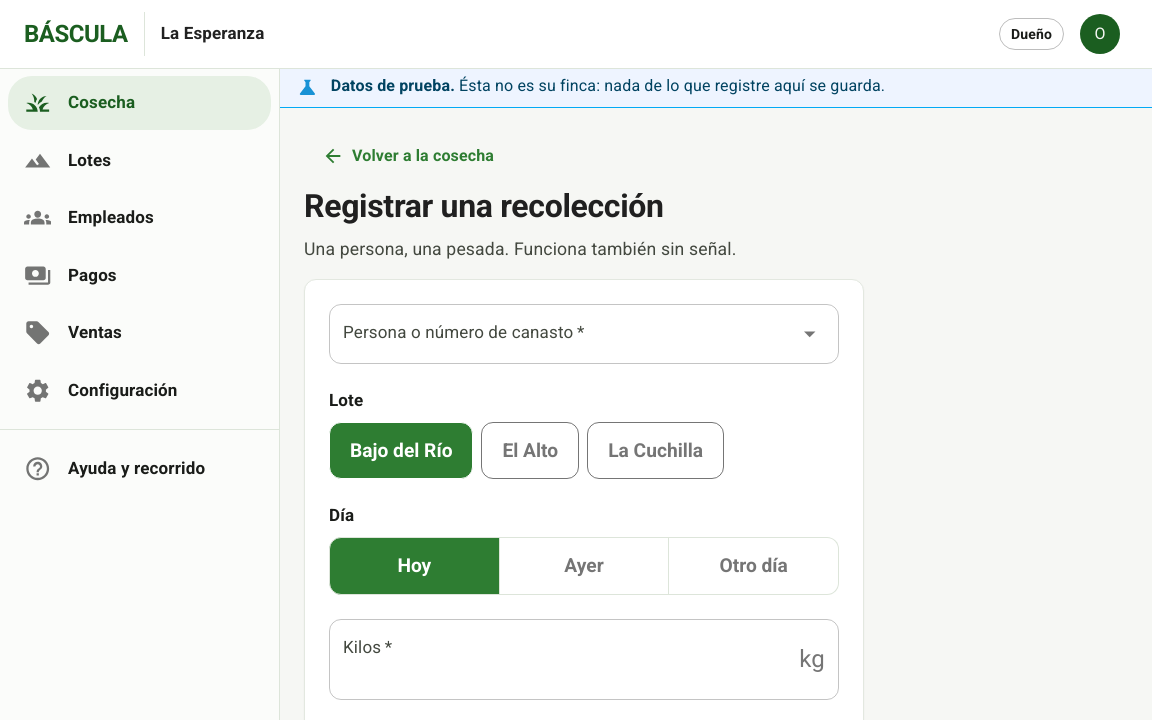
Test case: the weighing form › remembers the lote weighed last on this phone
The image size is (1152, 720).
Step 1. Click the dropdown labelled "Persona o número de canasto *" → click(569, 334), box [338,313,800,355]
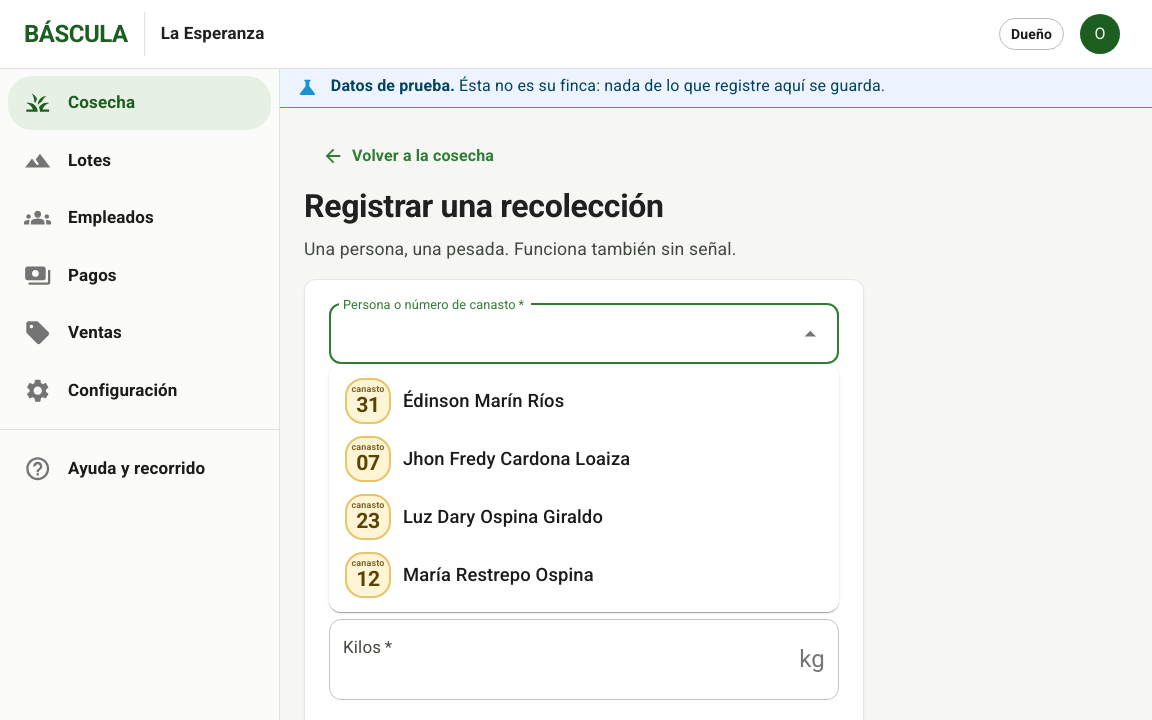
Step 2. Click the option "canasto 23 Luz Dary Ospina Giraldo" → click(474, 517), box [345,494,603,540]
(page scrolled)
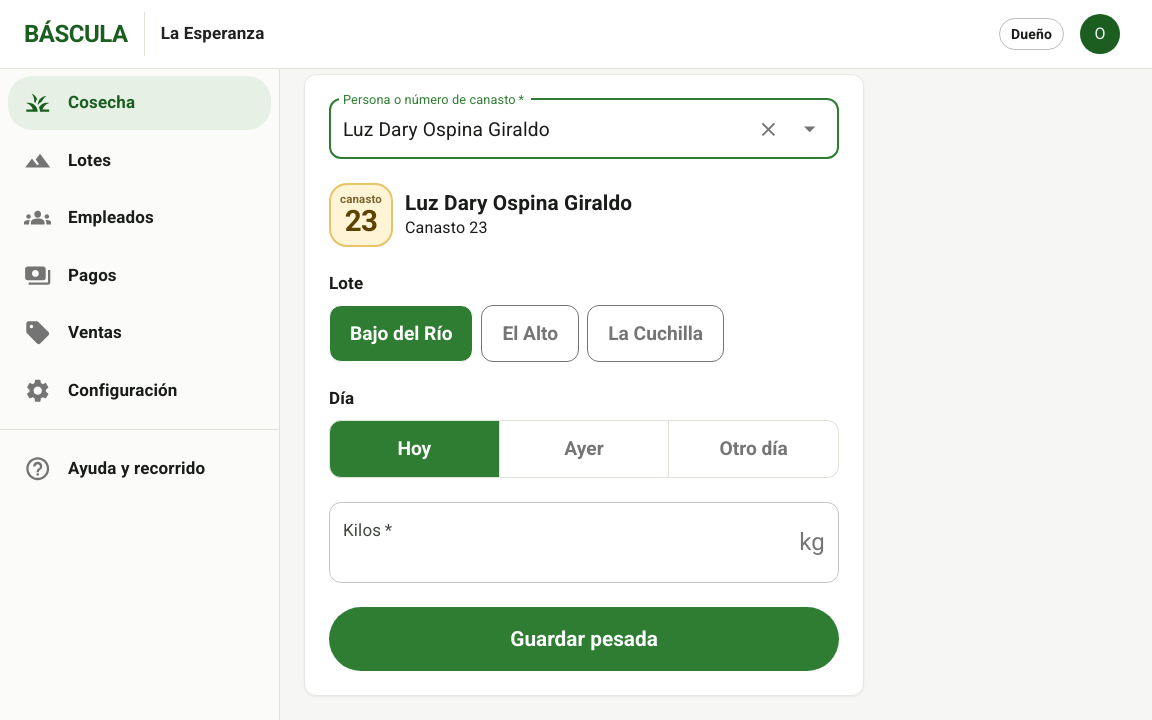
expect the button "Bajo del Río" is shown: met, box [329,305,474,362]
Step 3. Type "12" into the field labelled "Kilos" → (560, 542), box [329,502,791,583]
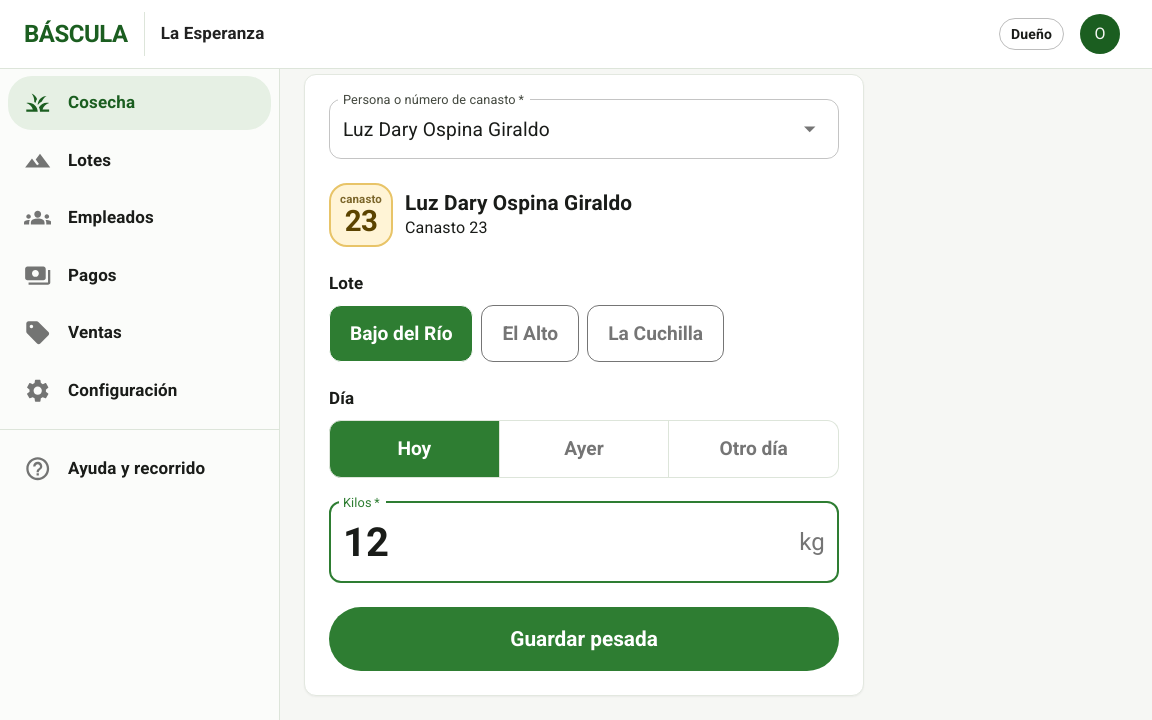
Step 4. Click the button "Guardar pesada" → click(584, 639), box [329,607,839,671]
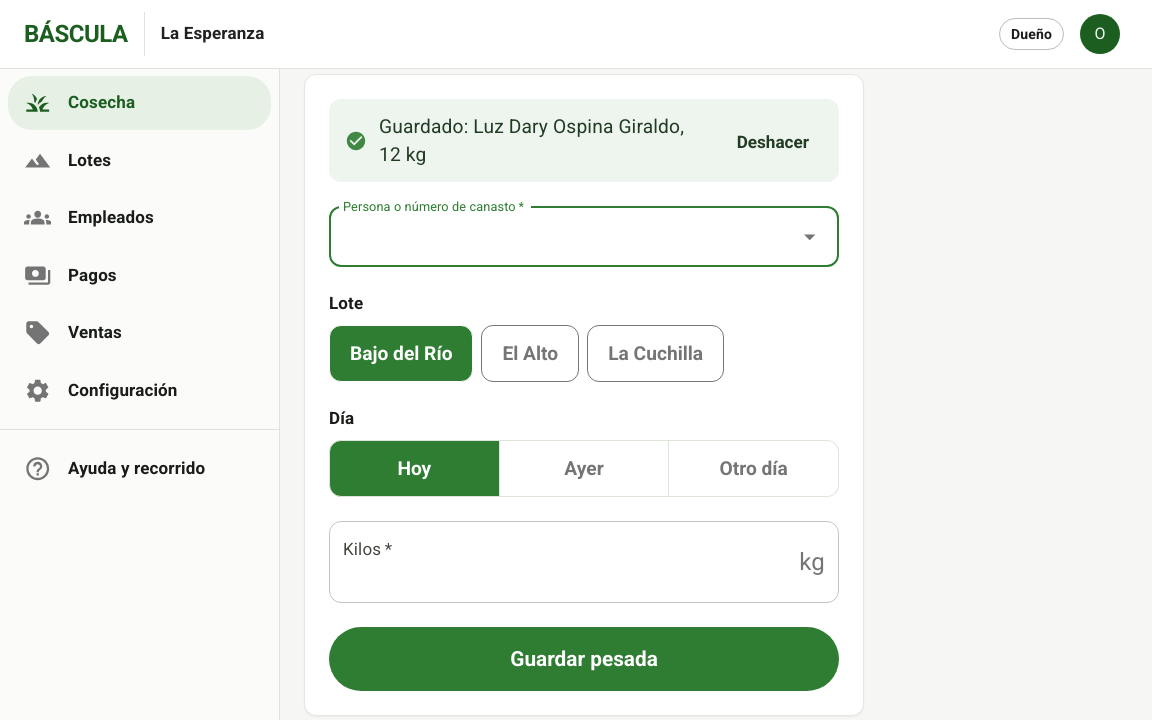
expect the text "Guardado: Luz Dary Ospina Giraldo, 12 kg" is shown: met, box [379,105,699,176]
